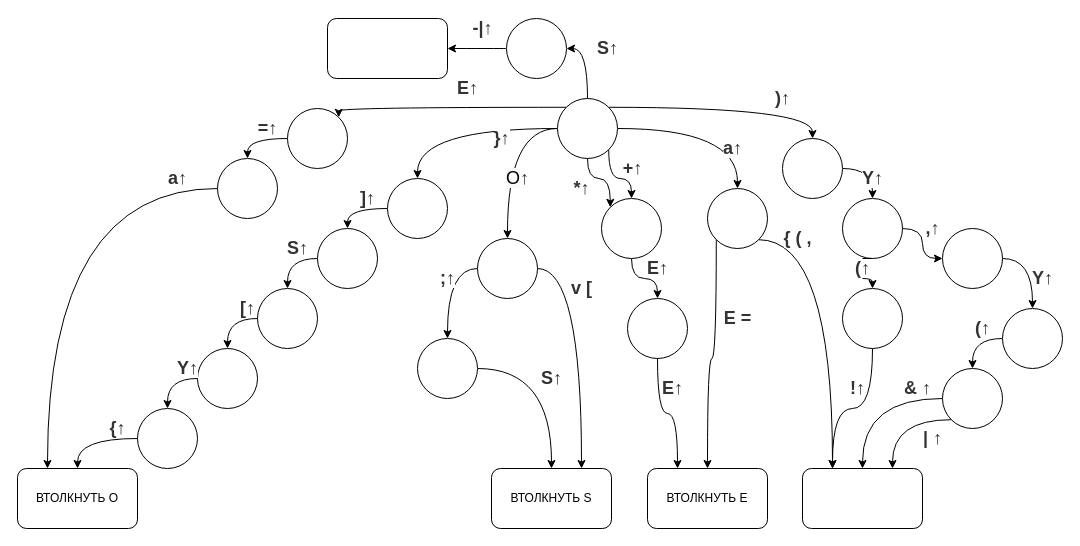
Some shapes in this 1080 by 546 pixel diagram are drawn without their labels. Here are the shapes that lost their labels. From the top down, the box of each, then its label:
(326, 18, 448, 78): ДОПУСТИТЬ
(802, 468, 922, 528): ВТОЛКНУТЬ Y
